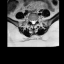CCS_normal: (32, 18, 34, 26)
LFS_normal: (35, 17, 37, 23)
LLS_normal: (34, 18, 35, 25)
RFS_normal: (29, 17, 31, 23)
RLS_normal: (31, 18, 32, 25)
